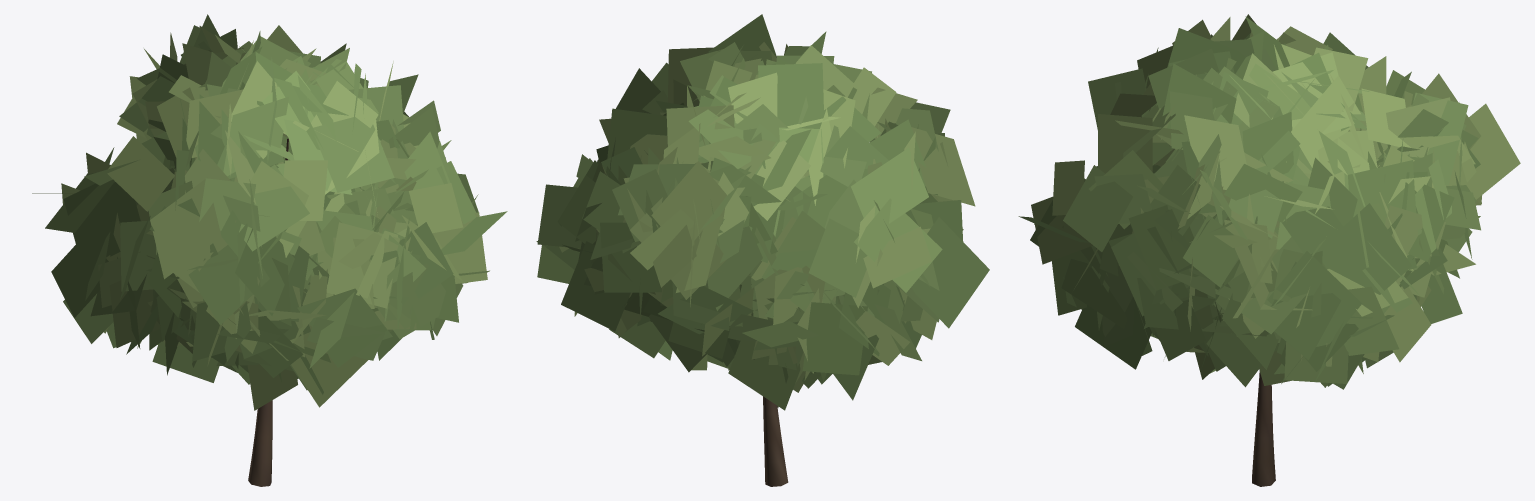
Rendered from broadleaf_0.glb.
3 renders of one model, left to right at view 1: azimuth 30°, elevation 25°; view 2: azimuth 150°, elevation 25°; view 3: azimuth 270°, elevation 25°, orthographic. The views are drawn at different scales.
Visible parts, largest first — view 1: broadleaf_0; view 2: broadleaf_0; view 3: broadleaf_0.
Part boxes in pixels (left/top/right/bottom): broadleaf_0: left=32, top=14, right=507, bottom=486; broadleaf_0: left=536, top=14, right=989, bottom=486; broadleaf_0: left=1018, top=14, right=1520, bottom=486.
Bounding box in the file's own units: 0.9713 × 1 × 1.
